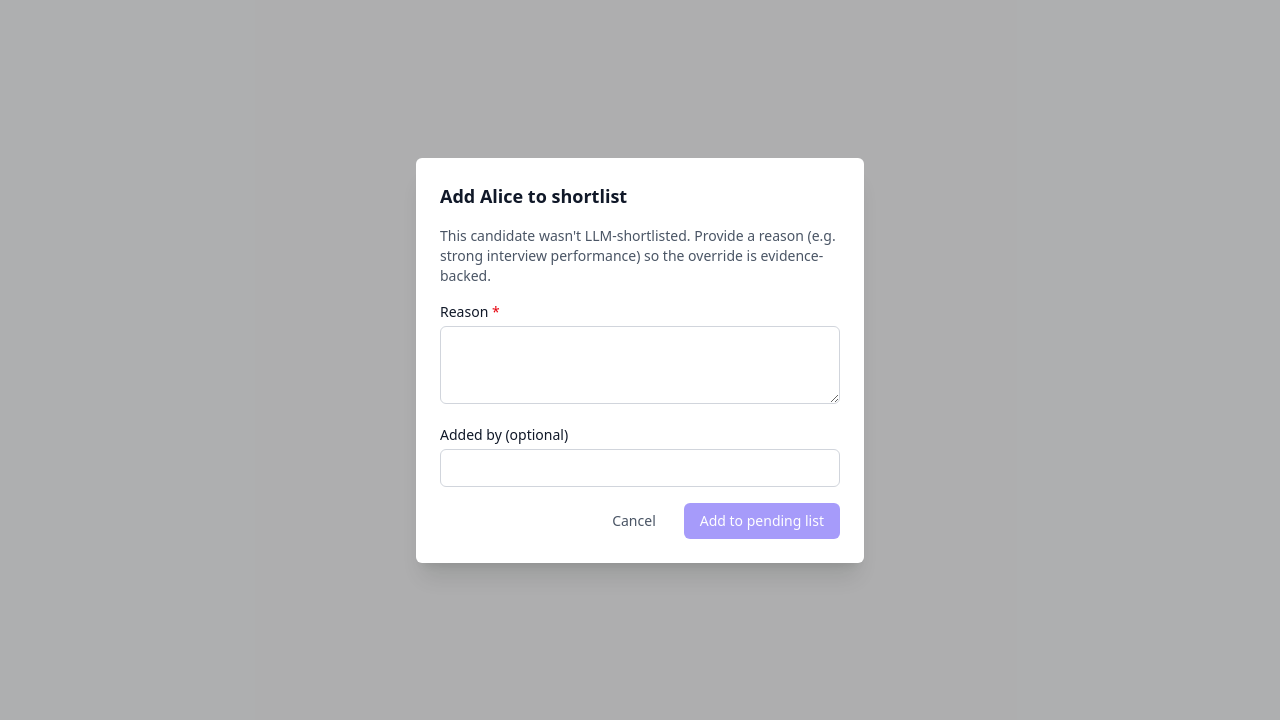
it: ManualAddModal › keeps the submit button disabled until a reason is entered
This screenshot has width=1280, height=720.
Expected: the button "Add to pending list" is disabled, [684, 502, 840, 538]
Type "Exceptional in interview" into the text box labelled "Reason *" at (640, 364), box [440, 326, 840, 404]
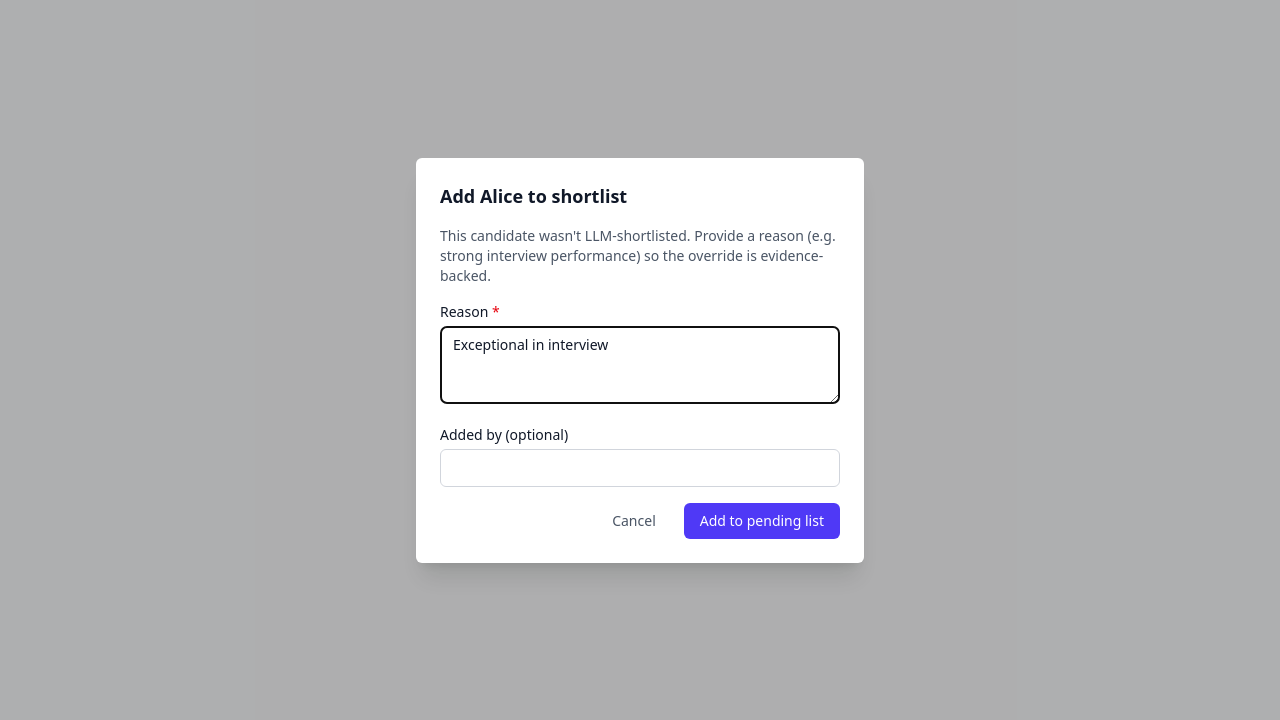
Result: the button "Add to pending list" is enabled at [684, 502, 840, 538]
